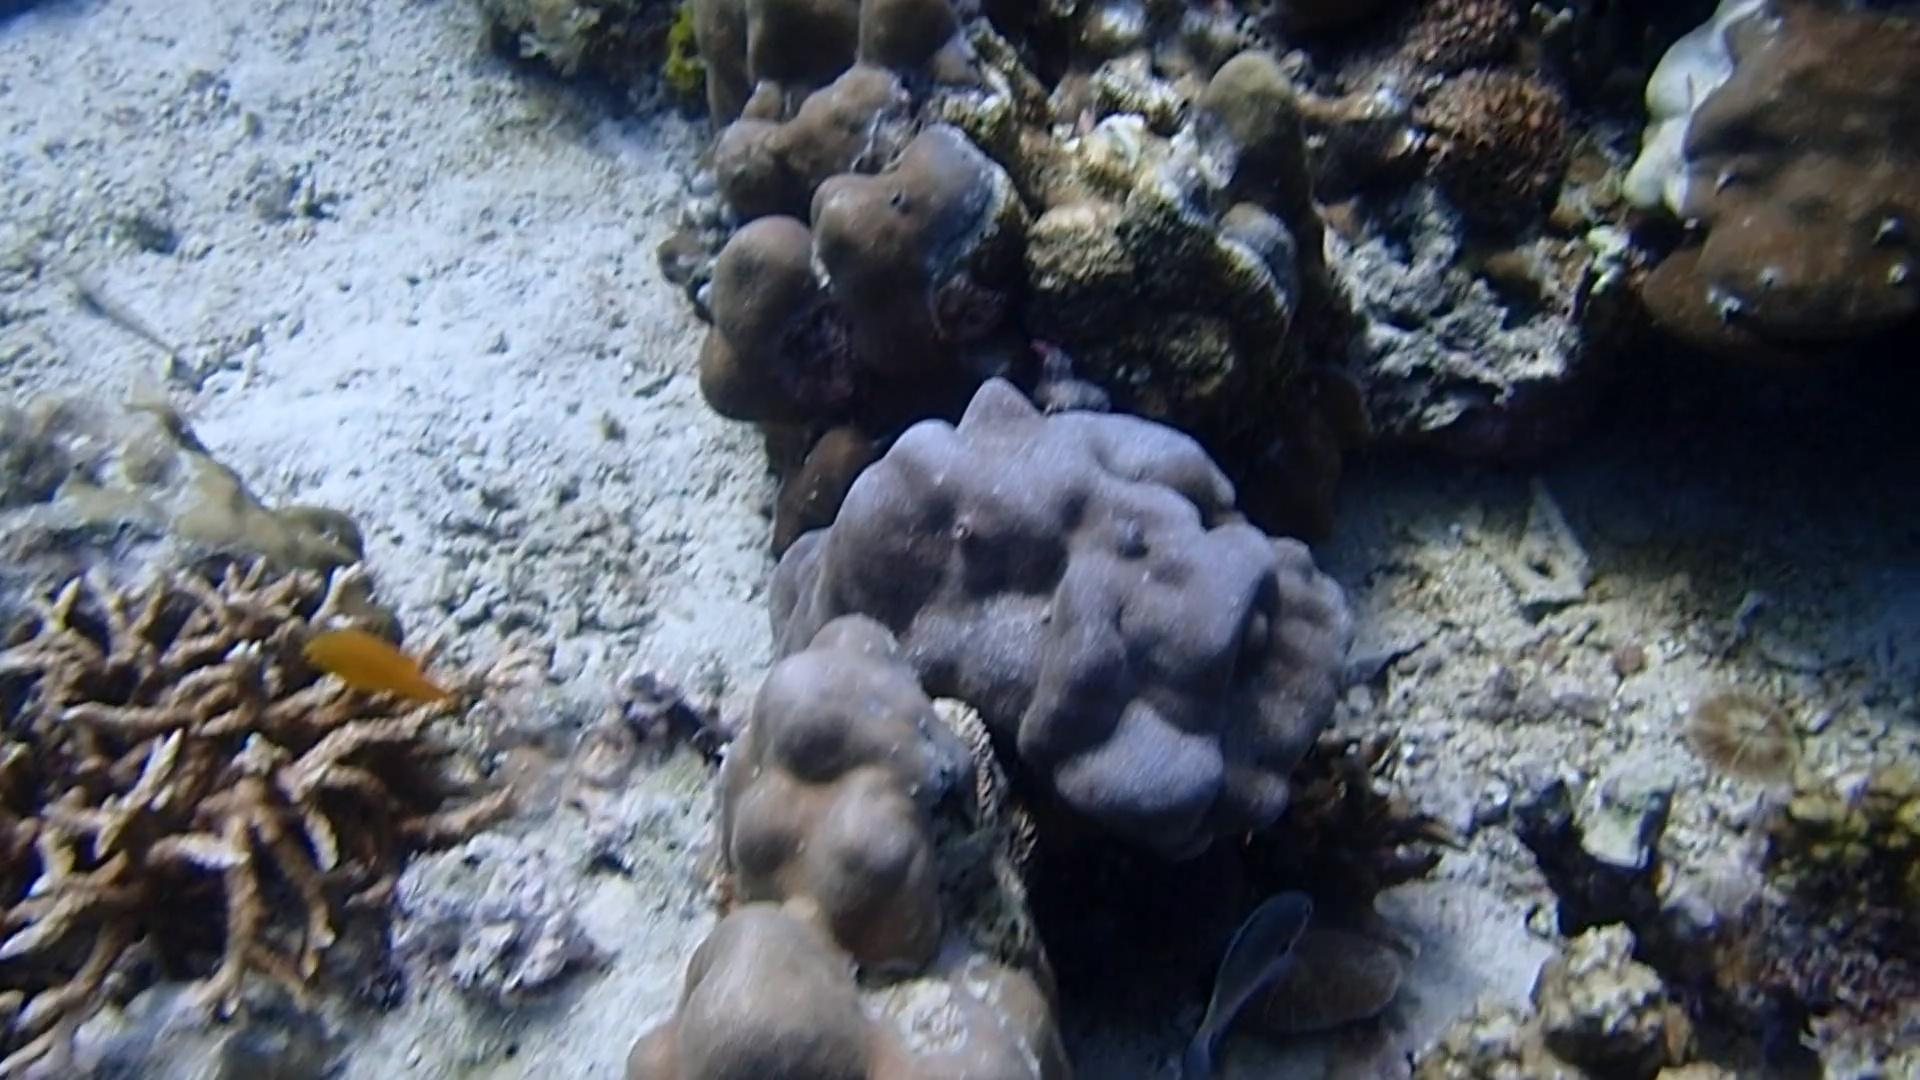Blue Fish Two: (1178, 880, 1327, 1080)
Yellow Fish: (297, 618, 465, 716)
